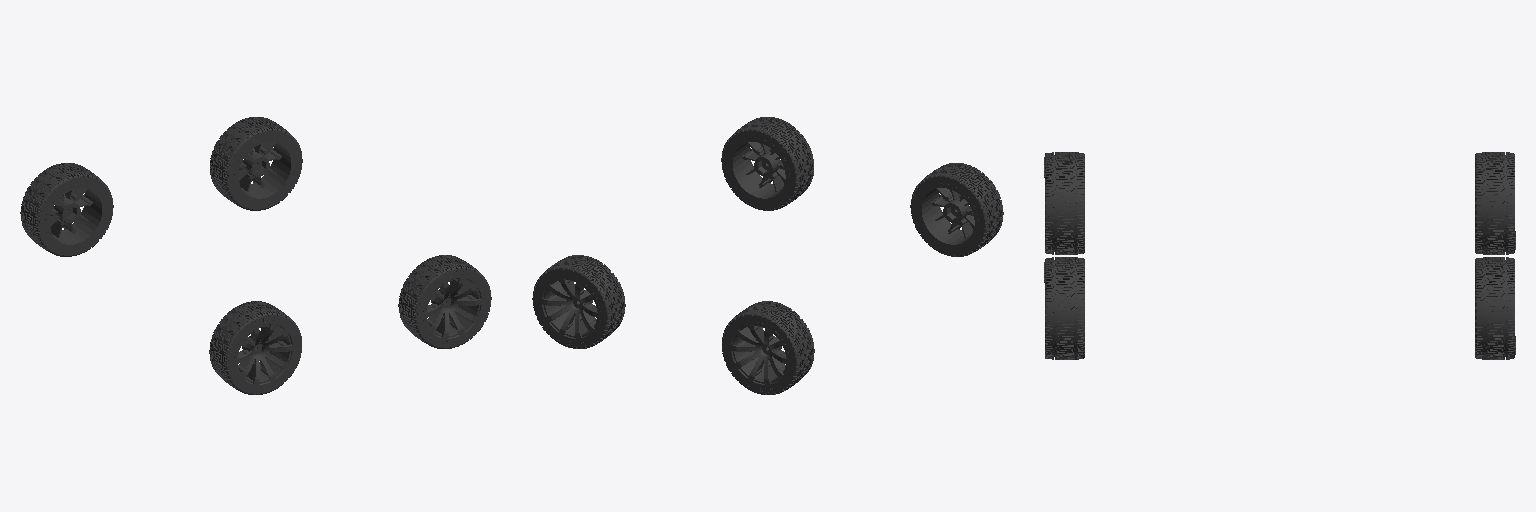
The robot description file, URDF, robot "pea_car":
<?xml version="1.0" encoding="utf-8"?>
<!-- This URDF was automatically created by SolidWorks to URDF Exporter! Originally created by [author] ([email redacted]) 
     Commit Version: 1.6.0-4-g7f85cfe  Build Version: 1.6.7995.38578
     For more information, please see http://wiki.ros.org/sw_urdf_exporter -->
<robot
  name="pea_car">
  
  <link name="world" />

  <link
    name="base_link">
    <inertial>
      <origin
        xyz="-0.00850900217466083 0.0141836619171774 -0.32641888833315"
        rpy="0 0 0" />
      <mass
        value="5.63759480853829" />
      <inertia
        ixx="0.00980887158915243"
        ixy="1.94119169503838E-05"
        ixz="0.000103361831282563"
        iyy="0.0217612218712177"
        iyz="0.000655342254090576"
        izz="0.0151940782982274" />
    </inertial>
    <visual>
      <origin
        xyz="0.01837 -0.4335 0.11452404"  
        rpy="0 0 0" />
      <geometry>
        <mesh
          filename="package://pea_car/meshes/base_link.STL" />
      </geometry>
      <material
        name="">
        <color
          rgba="0.752941176470588 0.752941176470588 0.752941176470588 1" />
      </material>
    </visual>
    <collision>
      <origin
        xyz="0.01837 -0.4335 0.11452404"
        rpy="0 0 0" />
      <geometry>
        <mesh
          filename="package://pea_car/meshes/base_link.STL" />
      </geometry>
    </collision>
  </link>
  <joint name="base_to_world" type="fixed">
    <parent link="world" />
    <child link="base_link" />
    <origin xyz="0 0 0" rpy="0 0 1.5708" />
  </joint>

  <link
    name="right1">
    <inertial>
      <origin
        xyz="4.38047024209354E-08 -0.000913846429348358 8.77279937688824E-06"
        rpy="0 0 0" />
      <mass
        value="0.0552841156378314" />
      <inertia
        ixx="3.71609617131184E-05"
        ixy="3.41059462062768E-11"
        ixz="-2.84685547633311E-11"
        iyy="6.18003473830655E-05"
        iyz="7.33619676437955E-09"
        izz="3.71463189873431E-05" />
    </inertial>
    <visual>
      <origin
        xyz="0 0 0"
        rpy="0 0 0" />
      <geometry>
        <mesh
          filename="package://pea_car/meshes/right1.STL" />
      </geometry>
      <material
        name="">
        <color
          rgba="0.298039215686275 0.298039215686275 0.298039215686275 1" />
      </material>
    </visual>
    <collision>
      <origin
        xyz="0 0 0"
        rpy="0 0 0" />
      <geometry>
        <mesh
          filename="package://pea_car/meshes/right1.STL" />
      </geometry>
    </collision>
  </link>
  <joint
    name="base_r_wheel_joint"
    type="continuous">
    <origin
      xyz="-0.1774 0.10254 0.0421844"
      rpy="0 0.0029193 -1.5708" />
    <parent
      link="base_link" />
    <child
      link="right1" />
    <axis
      xyz="0 1 0" />
  </joint>
  <link
    name="right2">
    <inertial>
      <origin
        xyz="4.20321930039158E-08 -0.000913847481226499 8.77378064739753E-06"
        rpy="0 0 0" />
      <mass
        value="0.0552841192285863" />
      <inertia
        ixx="3.71609621815472E-05"
        ixy="3.30508816797067E-11"
        ixz="-2.74714526173878E-11"
        iyy="6.18003486545583E-05"
        iyz="7.33680540240222E-09"
        izz="3.71463210239034E-05" />
    </inertial>
    <visual>
      <origin
        xyz="0 0 0"
        rpy="0 0 0" />
      <geometry>
        <mesh
          filename="package://pea_car/meshes/right2.STL" />
      </geometry>
      <material
        name="">
        <color
          rgba="0.298039215686275 0.298039215686275 0.298039215686275 1" />
      </material>
    </visual>
    <collision>
      <origin
        xyz="0 0 0"
        rpy="0 0 0" />
      <geometry>
        <mesh
          filename="package://pea_car/meshes/right2.STL" />
      </geometry>
    </collision>
  </link>
  <joint
    name="base_r_wheel_joint2"
    type="continuous">
    <origin
      xyz="-0.1774 -0.10246 0.0421844"
      rpy="0 0.0029193 -1.5708" />
    <parent
      link="base_link" />
    <child
      link="right2" />
    <axis
      xyz="0 1 0" />
  </joint>
  <link
    name="left1">
    <inertial>
      <origin
        xyz="4.30237453441507E-08 -0.000913847256190536 8.77025464920966E-06"
        rpy="0 0 0" />
      <mass
        value="0.0552841195828146" />
      <inertia
        ixx="3.71609606212003E-05"
        ixy="3.35662443428845E-11"
        ixz="-2.76283878029763E-11"
        iyy="6.18003489697355E-05"
        iyz="7.3346364056894E-09"
        izz="3.71463229548982E-05" />
    </inertial>
    <visual>
      <origin
        xyz="0 0 0"
        rpy="0 0 0" />
      <geometry>
        <mesh
          filename="package://pea_car/meshes/left1.STL" />
      </geometry>
      <material
        name="">
        <color
          rgba="0.298039215686275 0.298039215686275 0.298039215686275 1" />
      </material>
    </visual>
    <collision>
      <origin
        xyz="0 0 0"
        rpy="0 0 0" />
      <geometry>
        <mesh
          filename="package://pea_car/meshes/left1.STL" />
      </geometry>
    </collision>
  </link>
  <joint
    name="base_l_wheel_joint"
    type="continuous">
    <origin
      xyz="0.17741 0.10254 0.0421844"
      rpy="-3.1416 -0.0029193 -1.5708" />
    <parent
      link="base_link" />
    <child
      link="left1" />
    <axis
      xyz="0 1 0" />
  </joint>
  <link
    name="left2">
    <inertial>
      <origin
        xyz="4.19530674089508E-08 -0.000913847384547473 8.77307510695202E-06"
        rpy="0 0 0" />
      <mass
        value="0.0552841198251379" />
      <inertia
        ixx="3.71609623141704E-05"
        ixy="3.29715687959072E-11"
        ixz="-2.88139956947963E-11"
        iyy="6.18003492681589E-05"
        iyz="7.33619775085748E-09"
        izz="3.71463216046317E-05" />
    </inertial>
    <visual>
      <origin
        xyz="0 0 0"
        rpy="0 0 0" />
      <geometry>
        <mesh
          filename="package://pea_car/meshes/left2.STL" />
      </geometry>
      <material
        name="">
        <color
          rgba="0.298039215686275 0.298039215686275 0.298039215686275 1" />
      </material>
    </visual>
    <collision>
      <origin
        xyz="0 0 0"
        rpy="0 0 0" />
      <geometry>
        <mesh
          filename="package://pea_car/meshes/left2.STL" />
      </geometry>
    </collision>
  </link>
  <joint
    name="base_l_wheel_joint2"
    type="continuous">
    <origin
      xyz="0.17741 -0.10246 0.0421844"
      rpy="-3.1416 -0.0029193 -1.5708" />
    <parent
      link="base_link" />
    <child
      link="left2" />
    <axis
      xyz="0 1 0" />
  </joint>

 <gazebo>
        <plugin name="gazebo_ros_control" filename="libgazebo_ros_control.so">
            <robotNamespace>/pea_car</robotNamespace>
            <controlPeriod>0.001</controlPeriod>
            <robotParam>robot_description</robotParam>
        </plugin>

        <plugin name="gazebo_ros_diff_drive" filename="libgazebo_ros_diff_drive.so">
            <ros>
                <namespace>/pea_car</namespace>
            </ros>
            <commandTopic>/pea_car/cmd_vel</commandTopic>
            <odometryTopic>odom</odometryTopic>
            <odometryFrame>odom</odometryFrame>
            <robotBaseFrame>base_link</robotBaseFrame>
            <wheelSeparation>0.357</wheelSeparation>
            <wheelDiameter>0.085</wheelDiameter>
            <wheelTorque>30</wheelTorque>
            <wheelAcceleration>1.0</wheelAcceleration>
            <updateRate>50</updateRate>
            <broadcastTF>1</broadcastTF>
            <legacyMode>true</legacyMode>
            <publishWheelJointState>true</publishWheelJointState>
            <leftJoint>base_l_wheel_joint</leftJoint>
            <rightJoint>base_r_wheel_joint</rightJoint>
        </plugin>
 </gazebo>


</robot>

--- Facts derived from the render (not from the file) ---
3 views of the same robot in one strip: view 1: azimuth 30°, elevation 25°; view 2: azimuth 150°, elevation 25°; view 3: azimuth 270°, elevation 25° (orthographic).
Model pea_car with 6 links and 5 joints (4 continuous, 1 fixed), rooted at world, posed all joints at 0.
Visible links, largest first — view 1: right2, right1, left1, left2; view 2: right1, right2, left2, left1; view 3: right1, right2, left1, left2.
Link boxes in pixels (x1=…): right2: x1=398, y1=255, x2=491, y2=348; right1: x1=209, y1=301, x2=301, y2=394; left1: x1=20, y1=163, x2=113, y2=256; left2: x1=210, y1=117, x2=302, y2=210; right1: x1=910, y1=163, x2=1003, y2=256; right2: x1=721, y1=117, x2=813, y2=210; left2: x1=532, y1=255, x2=625, y2=348; left1: x1=722, y1=301, x2=814, y2=394; right1: x1=1044, y1=152, x2=1084, y2=254; right2: x1=1044, y1=257, x2=1084, y2=359; left1: x1=1475, y1=152, x2=1515, y2=254; left2: x1=1475, y1=257, x2=1515, y2=359.
Bounding box of the posed robot: 0.29 × 0.3883 × 0.085 m (x, y, z).
Meshes: 5 distinct files referenced, 4 mesh visuals loaded (4 binary STL); not drawn: 1 (reference not matched to a file when rendering).